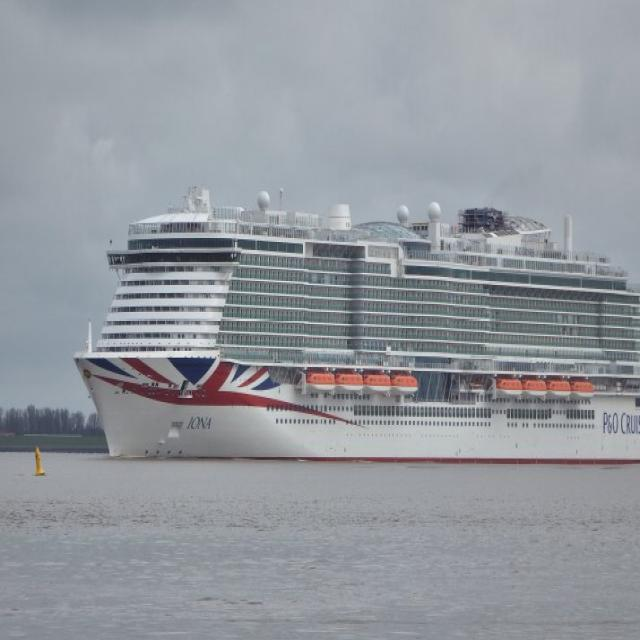cruises: (70, 164, 640, 476)
